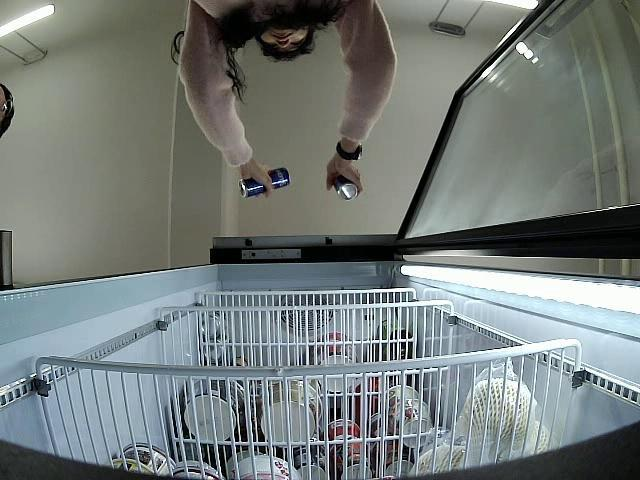16_hot6: (238, 168, 292, 198), (332, 174, 358, 200)
